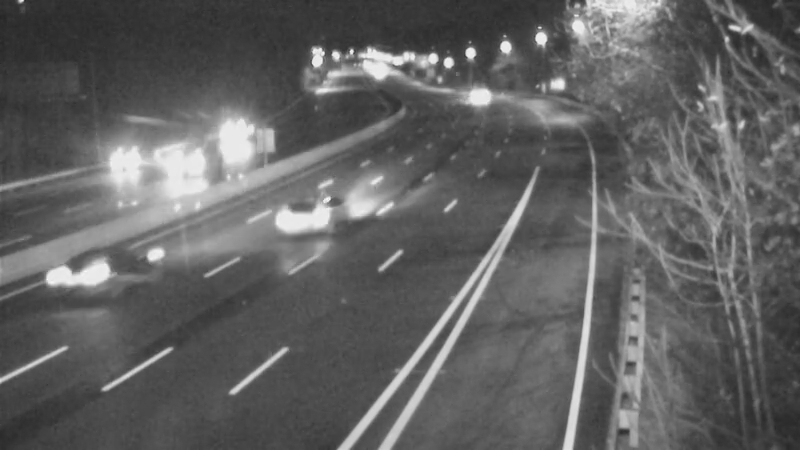vehicle: (265, 182, 345, 262), (42, 234, 122, 314), (82, 124, 162, 204), (132, 121, 212, 201), (451, 70, 501, 120), (206, 110, 256, 160)
